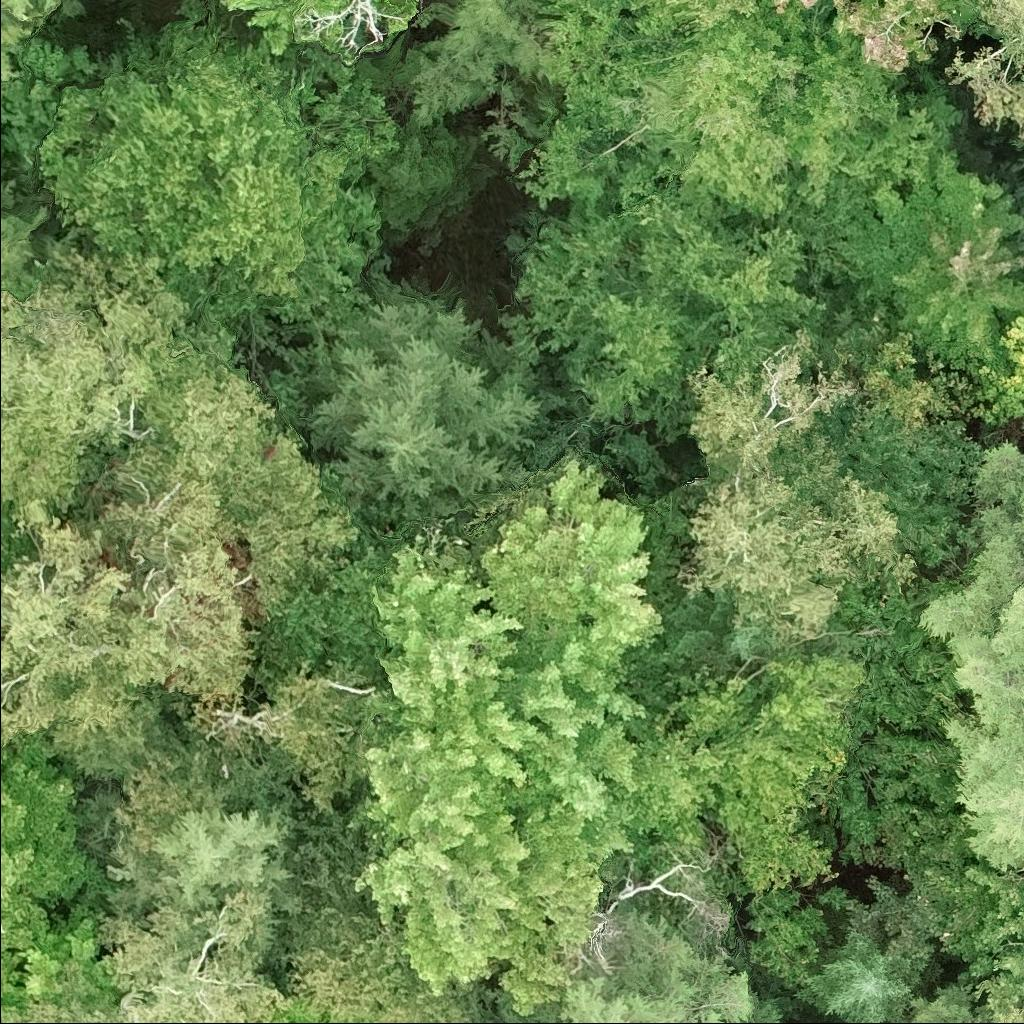crown: (350, 461, 668, 1017), (0, 330, 360, 752), (480, 0, 962, 287), (38, 0, 403, 324), (513, 195, 829, 444), (613, 646, 872, 902), (303, 278, 568, 519), (677, 430, 918, 651), (0, 247, 199, 512), (914, 436, 1023, 872), (840, 151, 1023, 372), (0, 888, 291, 1023), (276, 882, 496, 1023), (682, 325, 861, 487), (552, 906, 786, 1023), (197, 667, 380, 810), (104, 801, 305, 926), (0, 729, 101, 959), (358, 106, 501, 241), (801, 0, 997, 87), (409, 0, 539, 126), (790, 923, 931, 1023), (659, 586, 782, 689), (942, 0, 1023, 142), (950, 312, 1023, 430), (291, 0, 408, 56), (222, 0, 343, 54), (0, 0, 62, 80), (899, 980, 988, 1023), (625, 0, 714, 23), (267, 997, 340, 1023), (0, 950, 27, 1008), (372, 0, 429, 18), (986, 1004, 1023, 1023), (0, 489, 6, 516), (357, 1022, 370, 1023)
